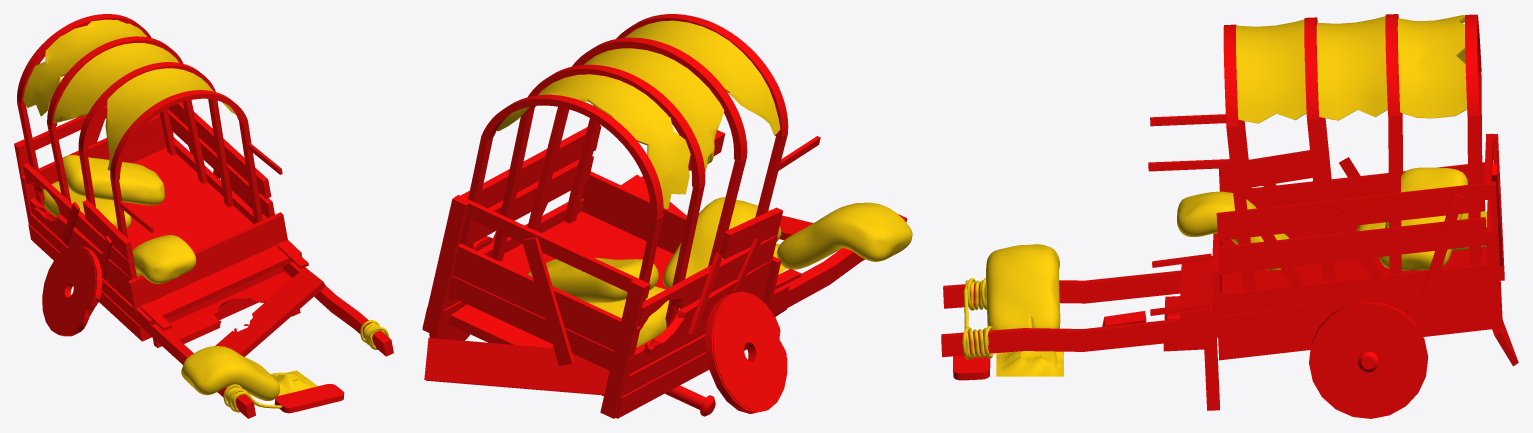
File: SM_Carriage_06.fbx
The picture shows the model from 3 angles, left to right: view 1: azimuth 30°, elevation 25°; view 2: azimuth 150°, elevation 25°; view 3: azimuth 270°, elevation 25°; orthographic projection. The views are drawn at different scales.
Parts seen in each view (by area): view 1: SM_Carriage_06; view 2: SM_Carriage_06; view 3: SM_Carriage_06.
Part boxes in pixels (<box>): SM_Carriage_06: <box>14,14,393,418</box>; SM_Carriage_06: <box>422,14,912,418</box>; SM_Carriage_06: <box>941,14,1518,418</box>.
Size of the model in its own units: 262 by 456 by 289.
